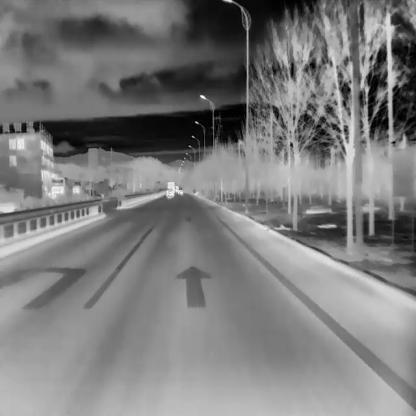car: (166, 180, 175, 195), (165, 187, 174, 197), (178, 187, 184, 194)
